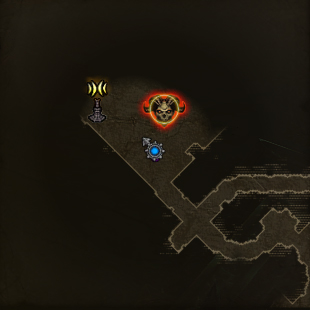ChannPylon: (85, 77, 109, 123)
Guardian: (142, 95, 188, 127)
